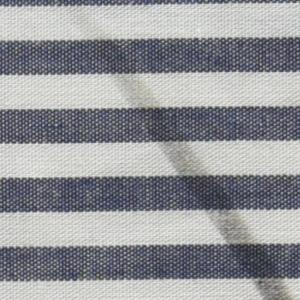Wrinkle: (69, 10, 300, 300)
